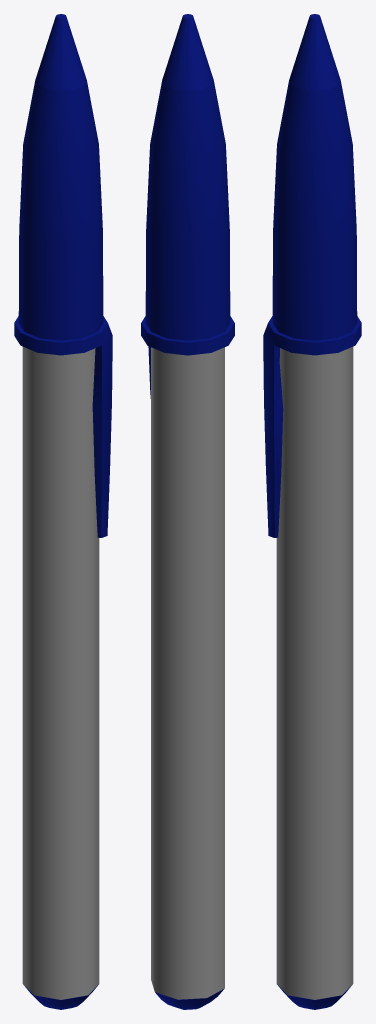
File: Pen.FBX
3 views of the same model, side by side, from view 1: azimuth 90°, elevation 25°; view 2: azimuth 210°, elevation 25°; view 3: azimuth 270°, elevation 25° (orthographic).
Parts seen in each view (by area): view 1: Cylinder003, Cylinder005; view 2: Cylinder003, Cylinder005; view 3: Cylinder003, Cylinder005.
Part boxes in pixels (<box>): Cylinder003: <box>22,347,99,999</box>; Cylinder005: <box>14,14,112,1009</box>; Cylinder003: <box>151,347,224,999</box>; Cylinder005: <box>141,14,234,1009</box>; Cylinder003: <box>276,347,353,999</box>; Cylinder005: <box>263,14,361,1009</box>.
Bounding box in the file's own units: 41.55 × 483 × 43.7.
